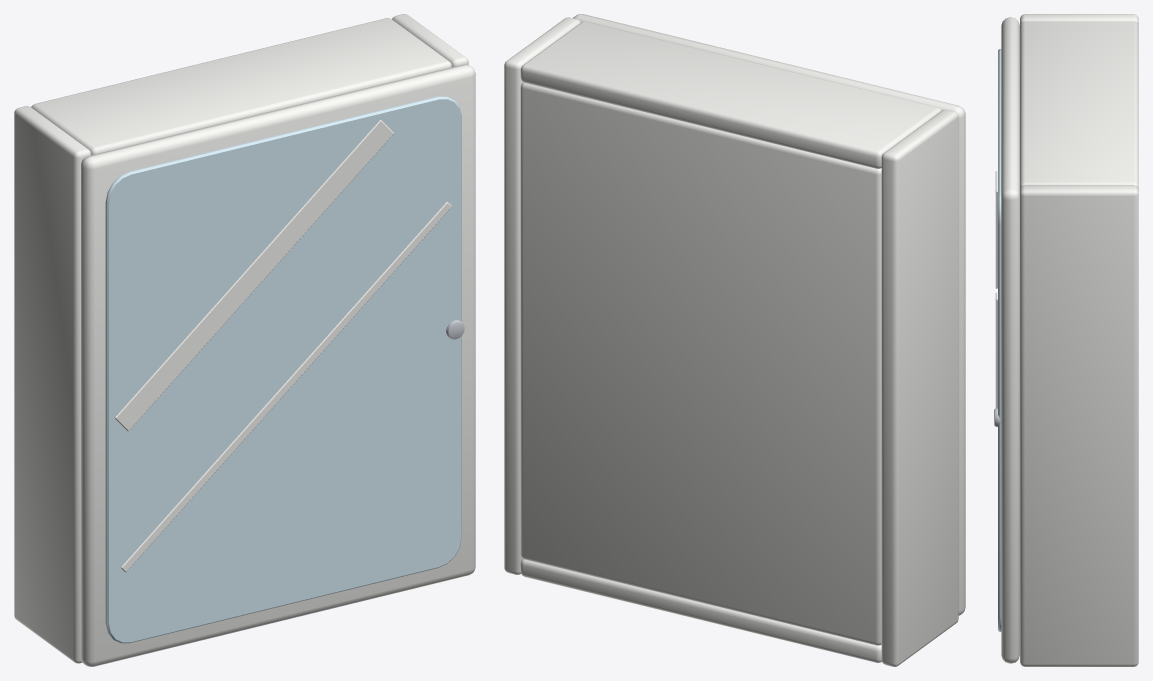
File: espelheira_branca.glb
3 renders of one model, left to right at view 1: azimuth 30°, elevation 25°; view 2: azimuth 150°, elevation 25°; view 3: azimuth 270°, elevation 25°, orthographic. The views are drawn at different scales.
Parts seen in each view (by area): view 1: porta_espelho, espelheira_branca; view 2: espelheira_branca, porta_espelho; view 3: espelheira_branca, porta_espelho.
Part boxes in pixels (bbox=[...]): porta_espelho: bbox=[81, 64, 475, 666]; espelheira_branca: bbox=[14, 14, 468, 663]; espelheira_branca: bbox=[504, 17, 958, 666]; porta_espelho: bbox=[573, 14, 965, 615]; espelheira_branca: bbox=[1020, 14, 1138, 666]; porta_espelho: bbox=[994, 17, 1019, 663].
Size of the model in its own units: 0.5 by 0.62 by 0.1704.
Materials: 2 (1 with a texture image).
